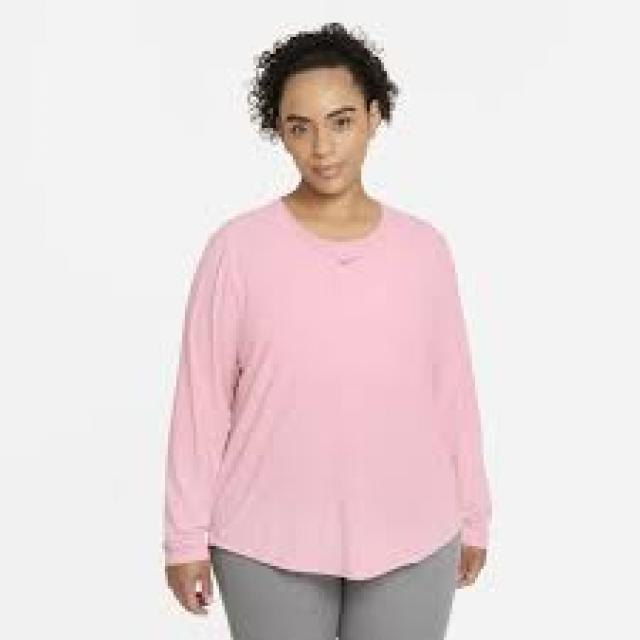plain: (168, 199, 502, 582)
